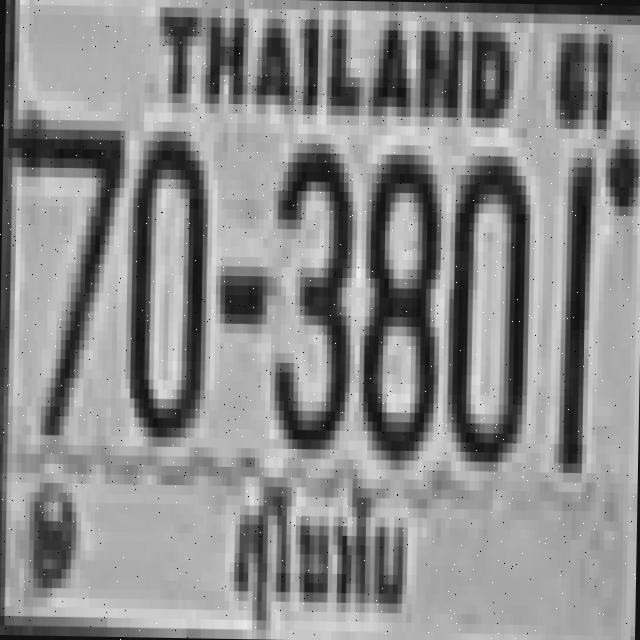0: (442, 146, 526, 462), (124, 121, 204, 438)
1: (554, 148, 592, 464), (551, 157, 589, 463)
3: (269, 133, 349, 450)
7: (36, 115, 120, 431)
8: (358, 144, 438, 451)
Sukhothai: (225, 470, 413, 638)
